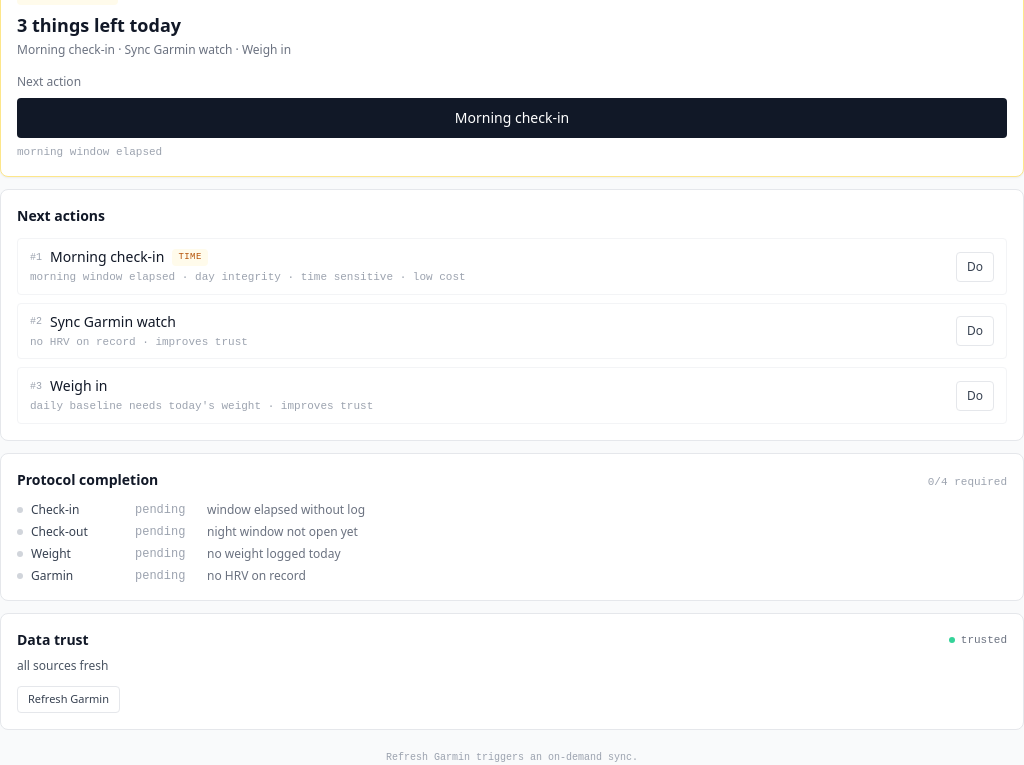
Test: Garmin sync UI flow › completed → shows "synced" note and invalidates Garmin caches
This screenshot has width=1024, height=765.
(page scrolled)
Expected: the element with test id "today-trust" is shown, [0,613,1023,730]
Click the button "Refresh Garmin" at (68, 700), box [17,686,120,713]
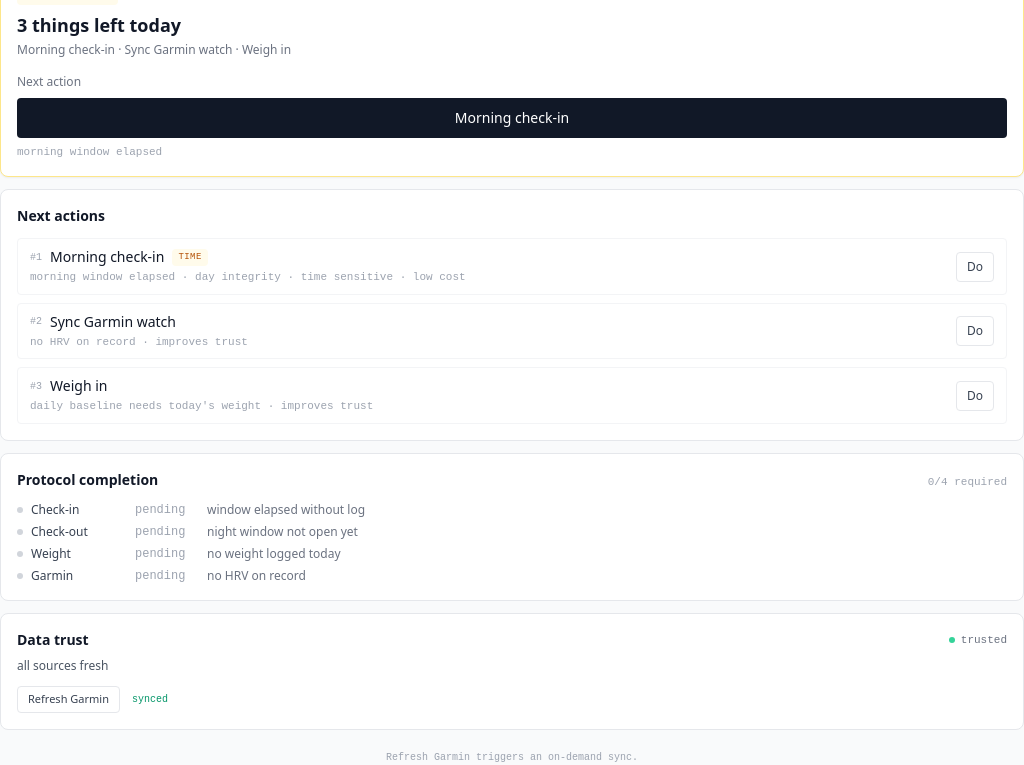
Result: the text with test id "garmin-sync-note" reads "synced" at [132,694,168,705]
